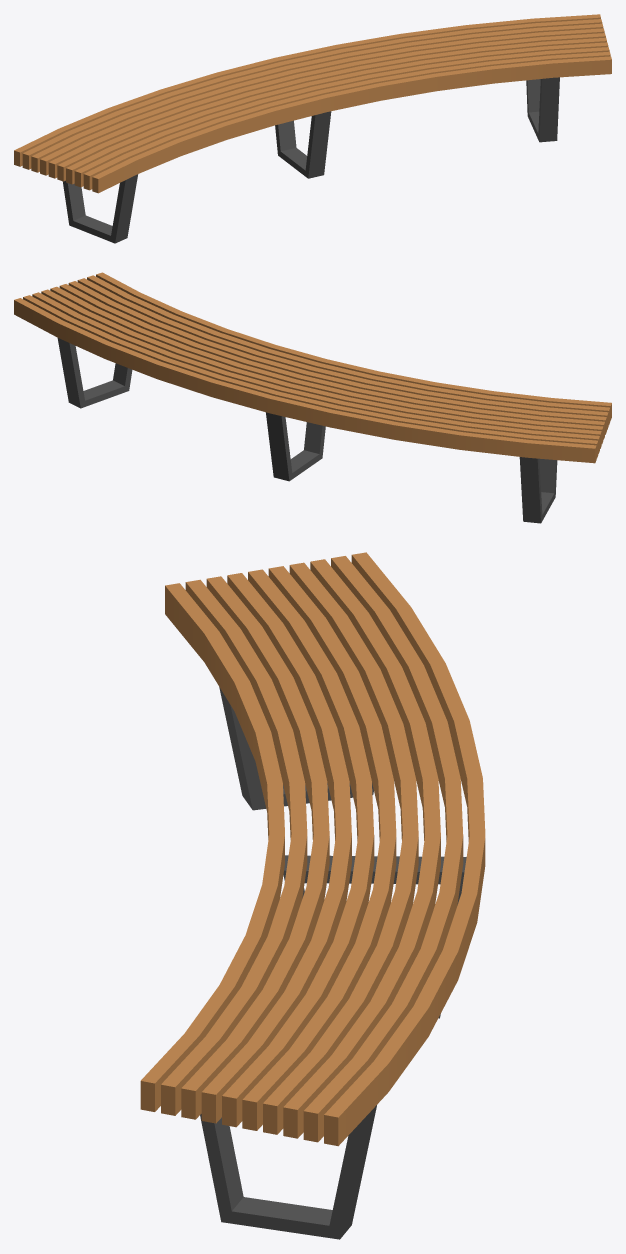
3 renders of one model, top to bottom at view 1: azimuth 30°, elevation 25°; view 2: azimuth 150°, elevation 25°; view 3: azimuth 270°, elevation 25°, orthographic. The views are drawn at different scales.
Visible parts, largest first — view 1: mesh4_mesh4-geometry, mesh21_mesh21-geometry, mesh1_mesh1-geometry, mesh5_mesh5-geometry, mesh2_mesh2-geometry, mesh6_mesh6-geometry, mesh10_mesh10-geometry, mesh7_mesh7-geometry, mesh8_mesh8-geometry, mesh3_mesh3-geometry, mesh9_mesh9-geometry; view 2: mesh1_mesh1-geometry, mesh21_mesh21-geometry, mesh5_mesh5-geometry, mesh2_mesh2-geometry, mesh6_mesh6-geometry, mesh10_mesh10-geometry, mesh7_mesh7-geometry, mesh8_mesh8-geometry, mesh3_mesh3-geometry, mesh9_mesh9-geometry, mesh4_mesh4-geometry; view 3: mesh1_mesh1-geometry, mesh4_mesh4-geometry, mesh5_mesh5-geometry, mesh2_mesh2-geometry, mesh6_mesh6-geometry, mesh10_mesh10-geometry, mesh7_mesh7-geometry, mesh8_mesh8-geometry, mesh3_mesh3-geometry, mesh9_mesh9-geometry, mesh21_mesh21-geometry.
Boxes of the visible parts, <box> form: mesh4_mesh4-geometry: <box>92,56,611,193</box>; mesh21_mesh21-geometry: <box>62,77,559,243</box>; mesh1_mesh1-geometry: <box>14,14,600,166</box>; mesh5_mesh5-geometry: <box>22,19,602,169</box>; mesh2_mesh2-geometry: <box>31,23,603,172</box>; mesh6_mesh6-geometry: <box>40,28,604,175</box>; mesh10_mesh10-geometry: <box>48,33,605,178</box>; mesh7_mesh7-geometry: <box>57,37,606,181</box>; mesh8_mesh8-geometry: <box>66,42,608,184</box>; mesh3_mesh3-geometry: <box>74,47,609,187</box>; mesh9_mesh9-geometry: <box>83,51,610,190</box>; mesh1_mesh1-geometry: <box>14,298,596,463</box>; mesh21_mesh21-geometry: <box>57,338,557,523</box>; mesh5_mesh5-geometry: <box>23,295,598,458</box>; mesh2_mesh2-geometry: <box>32,292,599,453</box>; mesh6_mesh6-geometry: <box>41,289,601,448</box>; mesh10_mesh10-geometry: <box>50,286,603,443</box>; mesh7_mesh7-geometry: <box>59,284,604,439</box>; mesh8_mesh8-geometry: <box>68,281,606,434</box>; mesh3_mesh3-geometry: <box>77,278,608,429</box>; mesh9_mesh9-geometry: <box>87,275,610,424</box>; mesh4_mesh4-geometry: <box>96,272,611,420</box>; mesh1_mesh1-geometry: <box>324,552,485,1146</box>; mesh4_mesh4-geometry: <box>140,583,284,1111</box>; mesh5_mesh5-geometry: <box>303,556,463,1142</box>; mesh2_mesh2-geometry: <box>283,559,440,1138</box>; mesh6_mesh6-geometry: <box>263,562,418,1134</box>; mesh10_mesh10-geometry: <box>242,566,396,1130</box>; mesh7_mesh7-geometry: <box>222,569,374,1127</box>; mesh8_mesh8-geometry: <box>201,573,351,1123</box>; mesh3_mesh3-geometry: <box>181,576,329,1119</box>; mesh9_mesh9-geometry: <box>161,579,307,1115</box>; mesh21_mesh21-geometry: <box>200,687,466,1239</box>.
Size of the model in its own units: 0.959 by 0.1385 by 0.2474.
